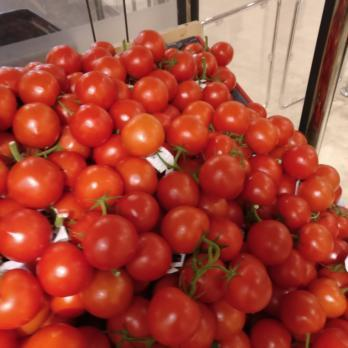Tomato: (0, 131, 317, 348), (0, 59, 235, 129)
